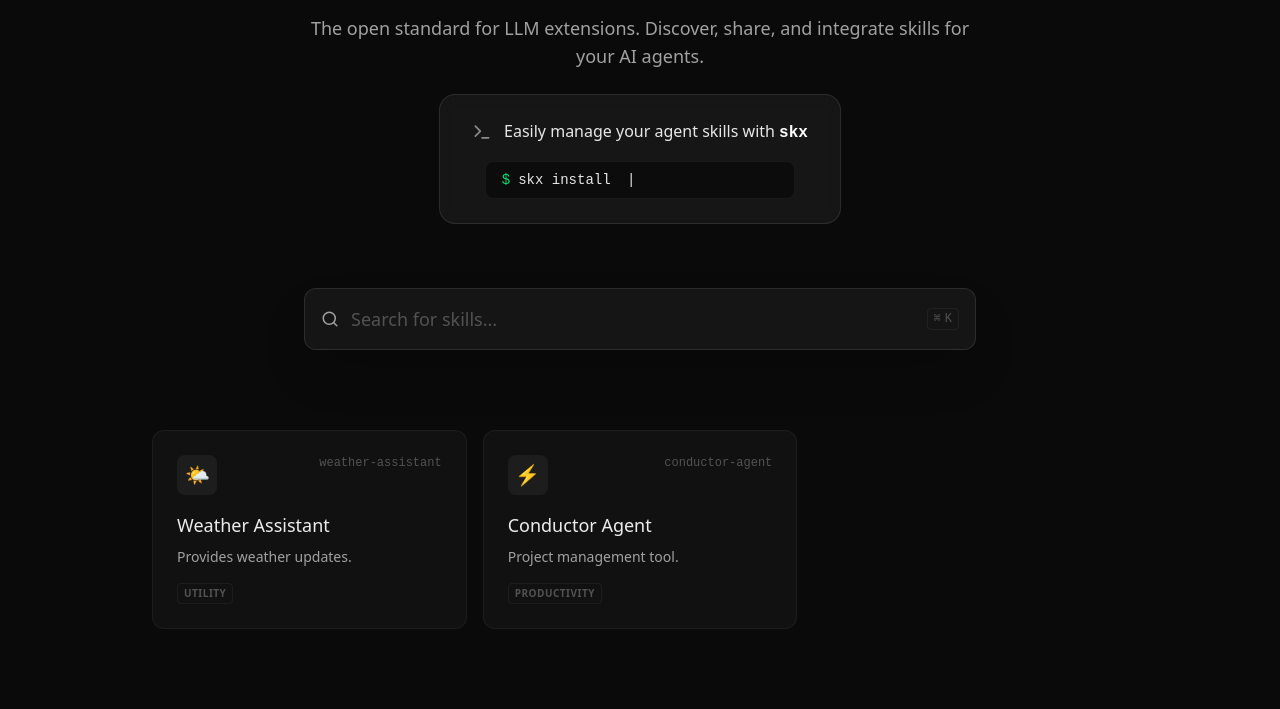
Test case: caches GitHub stars in localStorage
This screenshot has width=1280, height=709.
(page scrolled)
Note: Open modal
Click the heading "Weather Assistant": click(253, 525) [177,513,330,537]
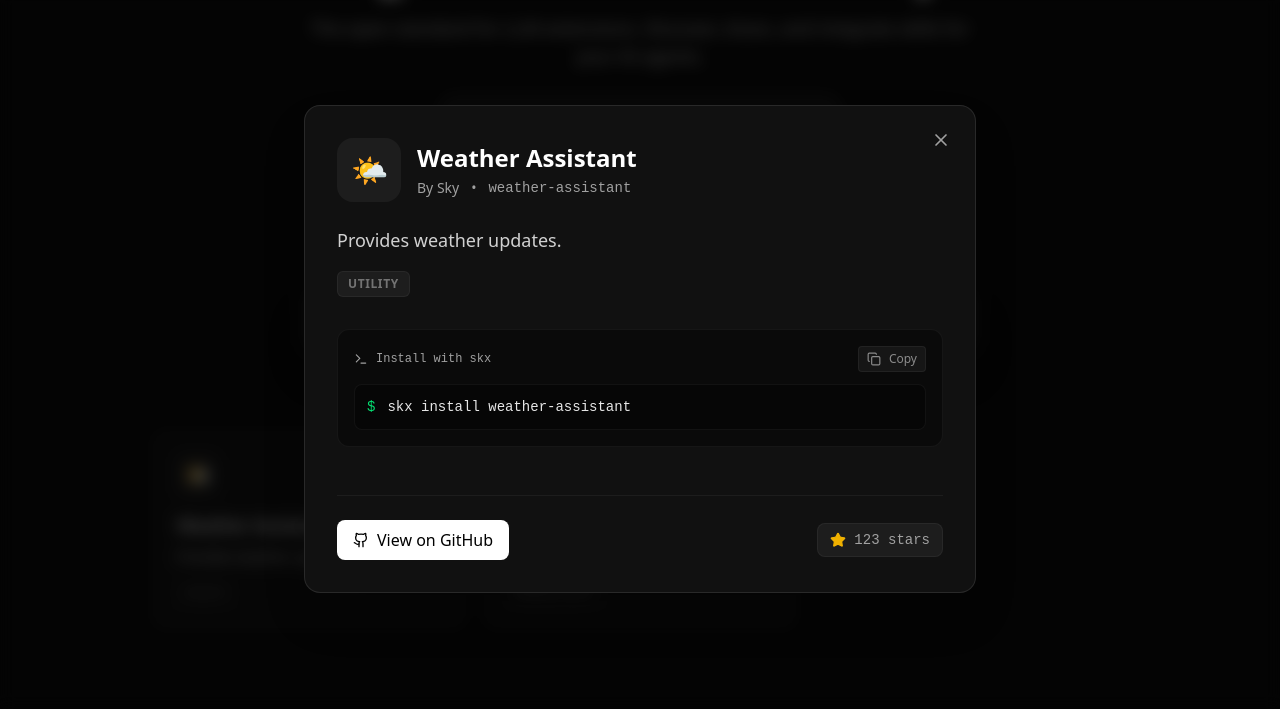
Check: the text "123 stars" is shown, box [817,523,943,557]
Note: Close and reopen
Click the button named "close modal": click(941, 140) [923,122,959,158]
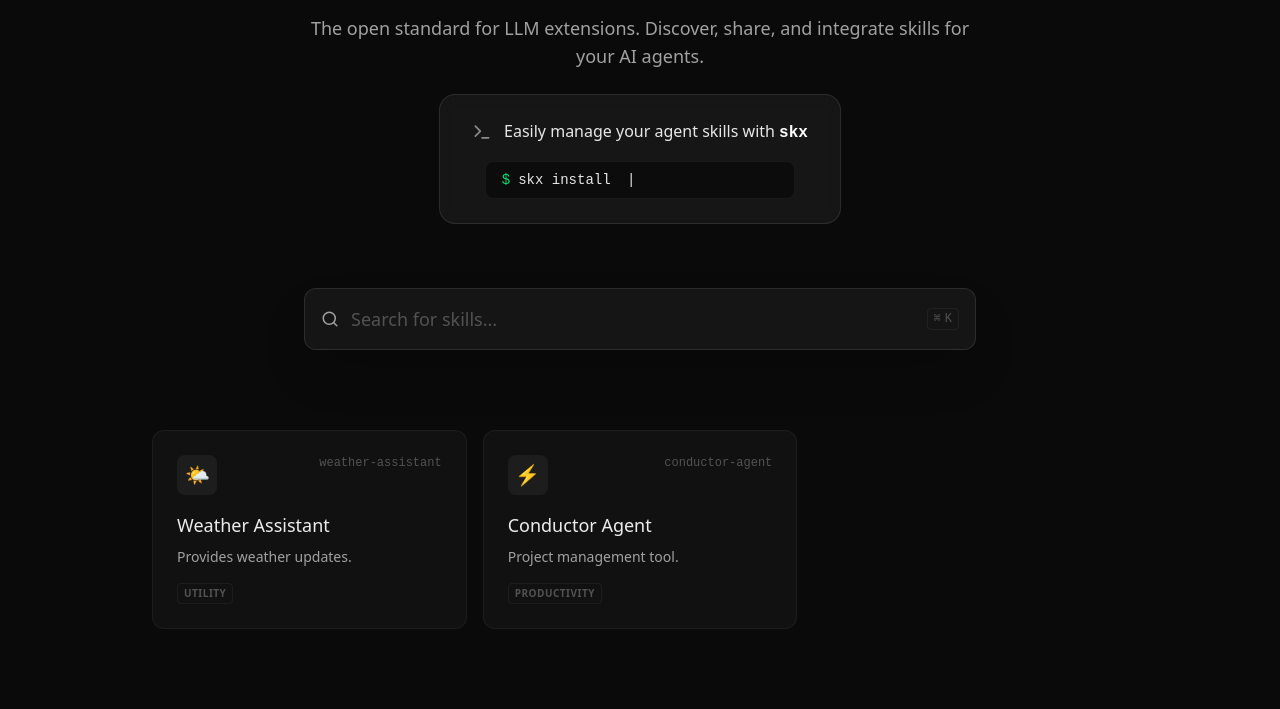
Click the heading "Weather Assistant": click(253, 525) [177,513,330,537]
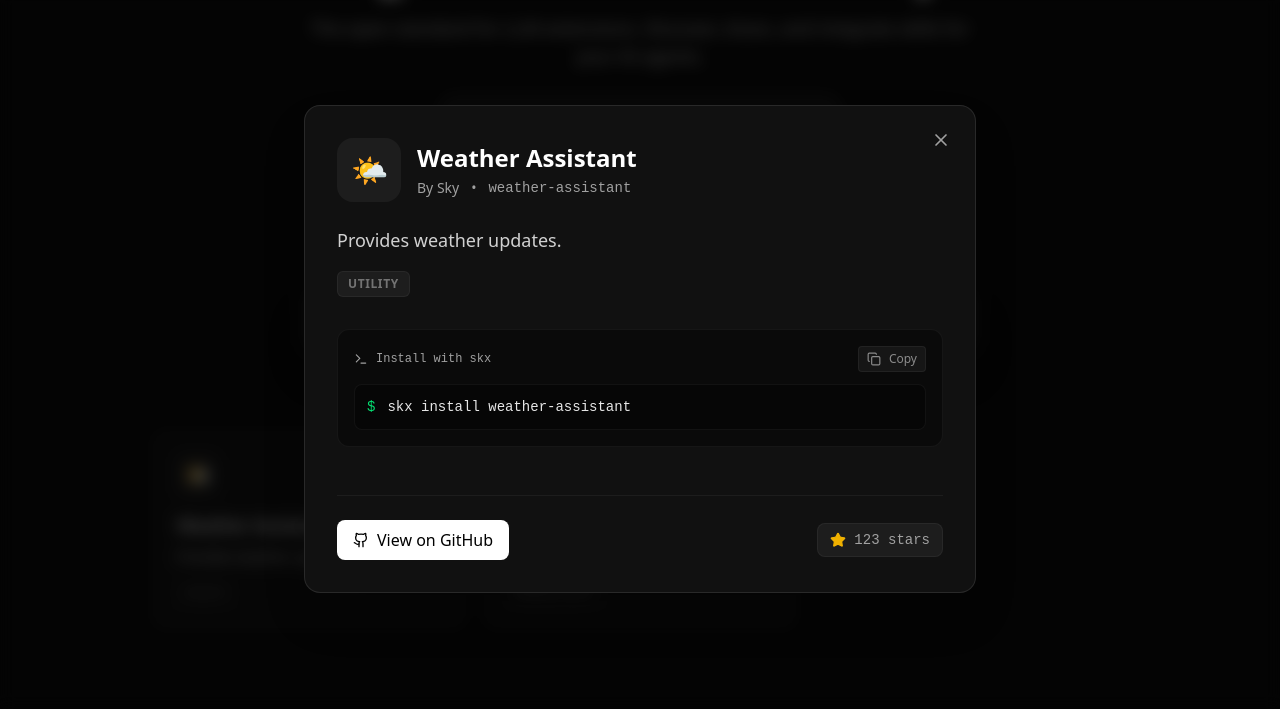
Check: the text "123 stars" is shown, box [817,523,943,557]
